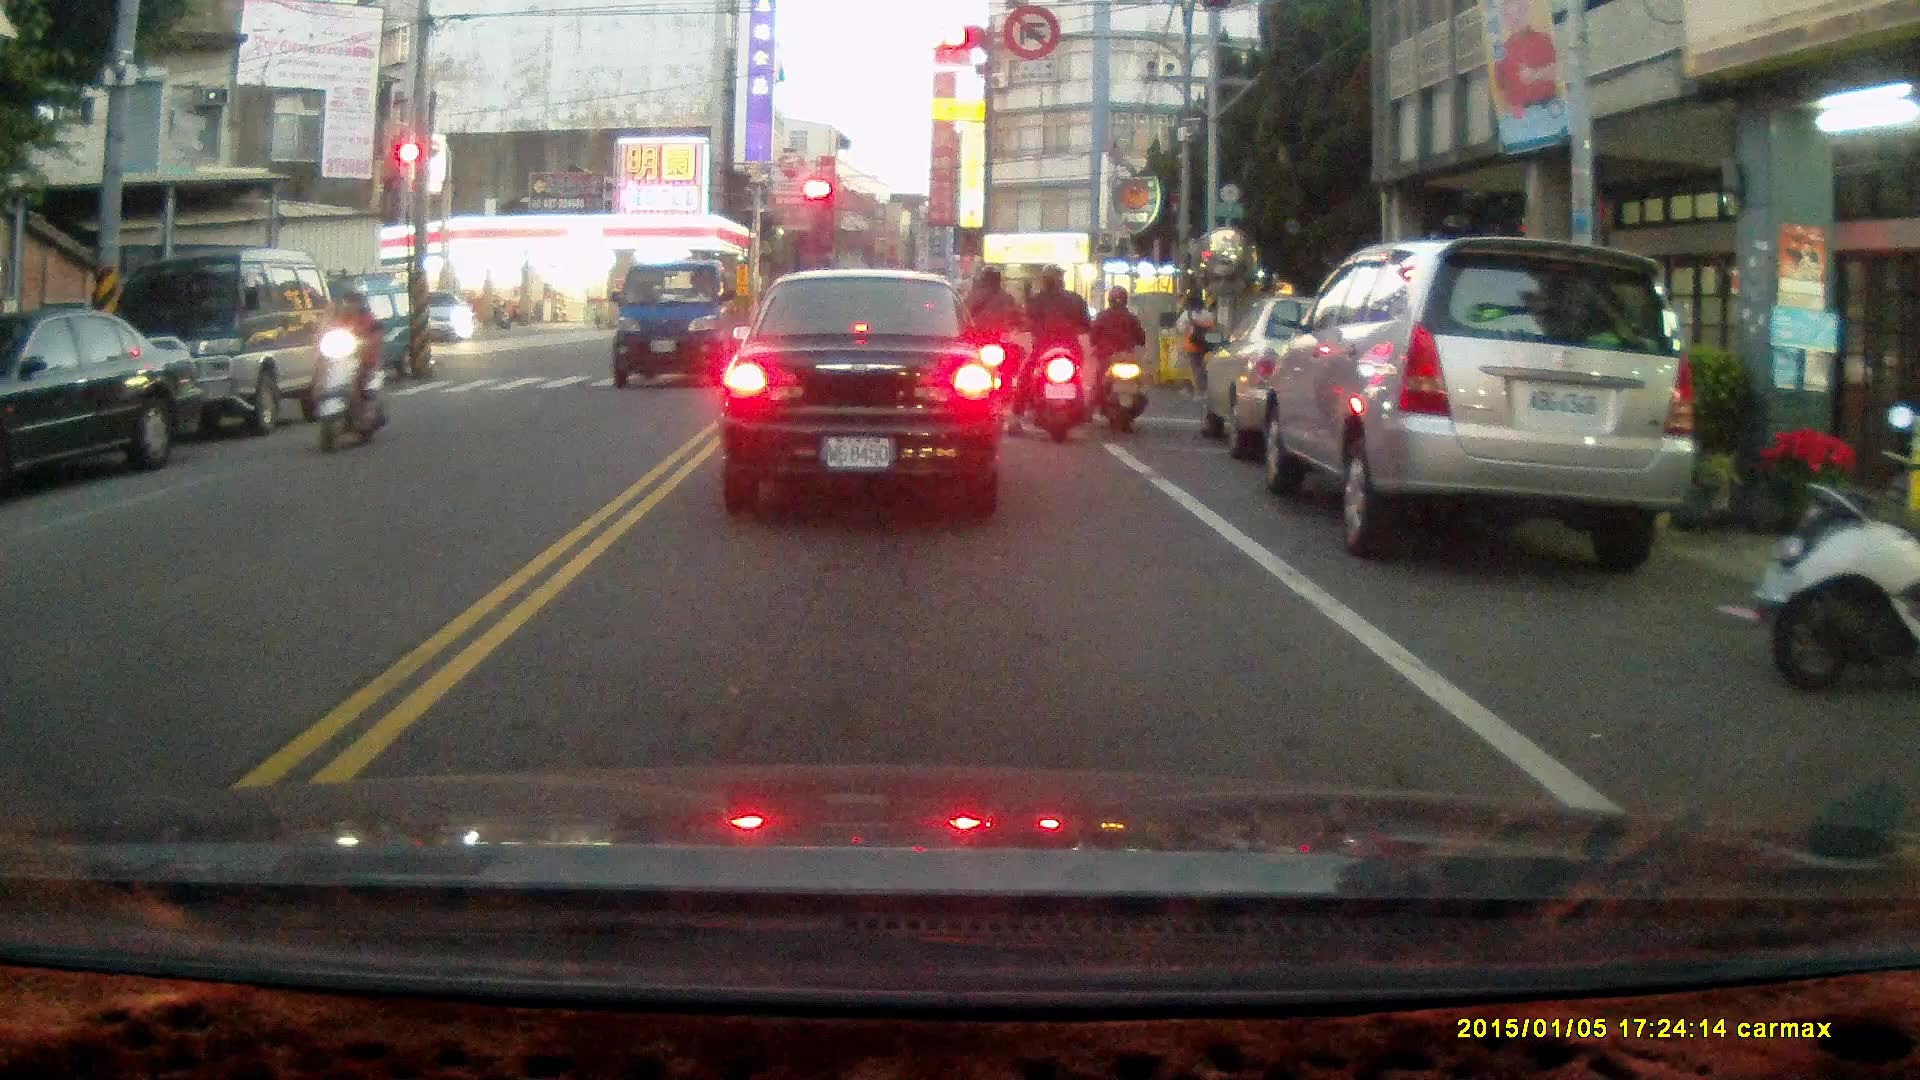pedestrian: (1169, 288, 1222, 409)
rider: (1005, 262, 1091, 445), (316, 282, 388, 451), (957, 267, 1019, 423), (1084, 283, 1148, 433)
vehicle: (1257, 233, 1699, 565), (722, 274, 1011, 514), (108, 244, 340, 433), (1201, 298, 1442, 468), (1, 307, 204, 495), (608, 267, 746, 390), (298, 271, 434, 395)
